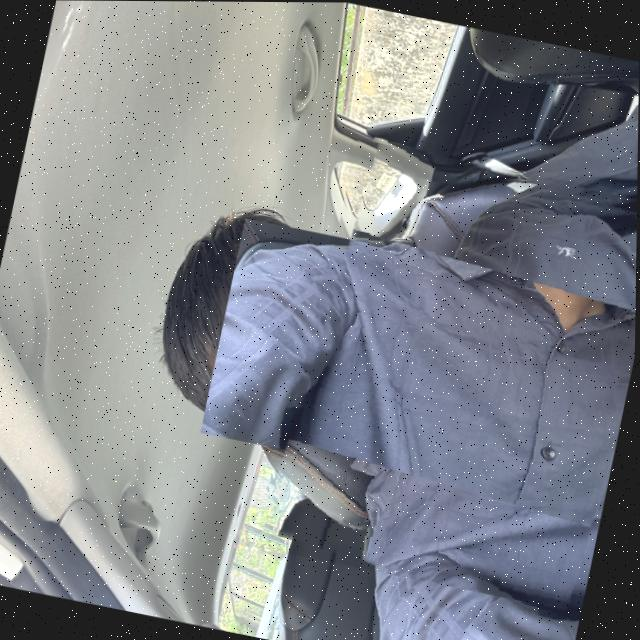no-seatbelt: (267, 136, 638, 612)
